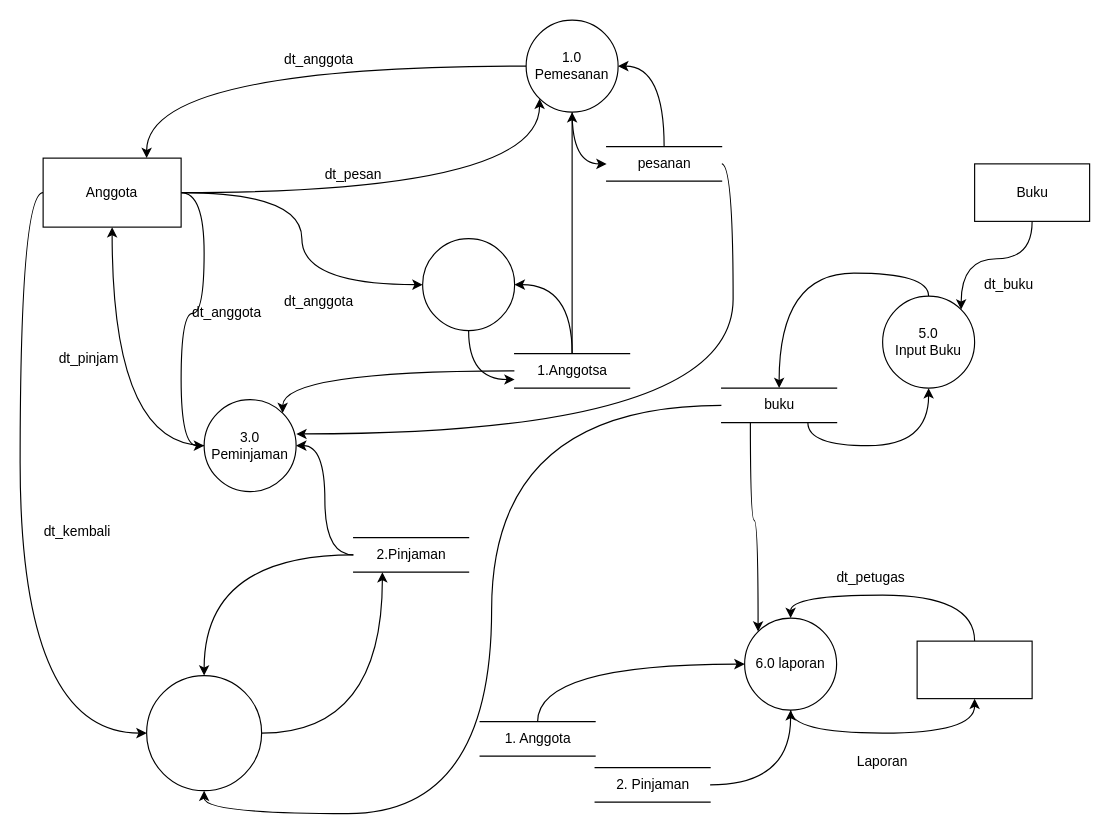
Image size: 1110x834. Some labels were removed from this diagram. Here are the shapes that lost their labels. From the top down, the centre of each, then its label:
At (468,284): "2.0 Registrasi".
At (974,669): "Petugas".
At (203,732): "4.0 Pengembalian".
